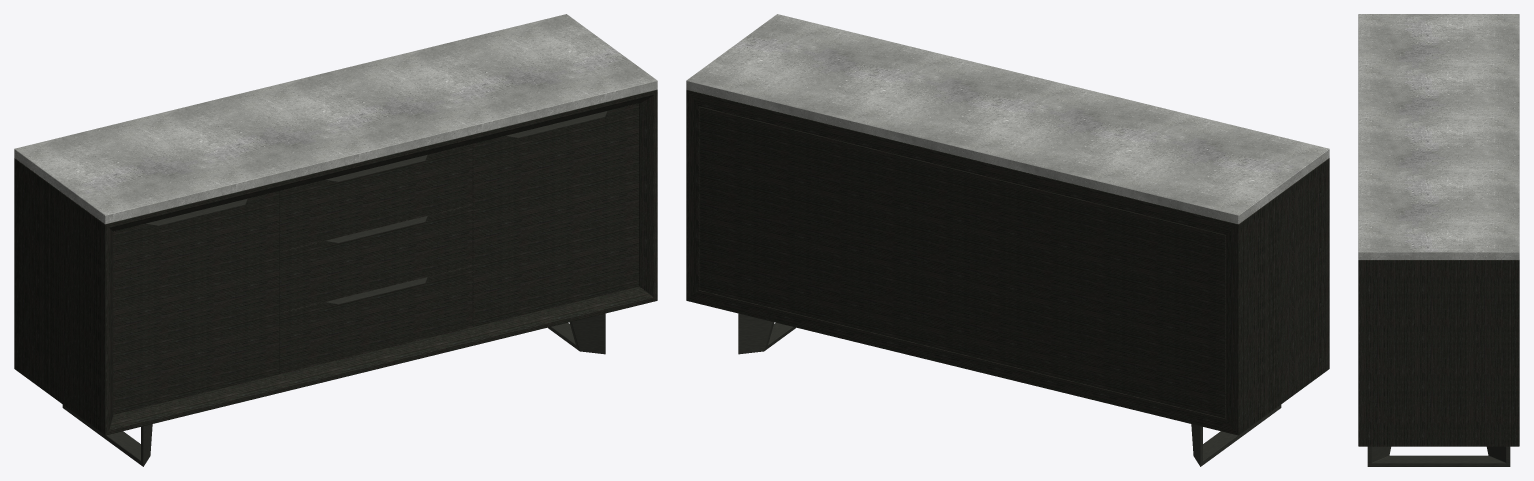
File: clothes_furniture.dae
3 views of the same model, side by side, from view 1: azimuth 30°, elevation 25°; view 2: azimuth 150°, elevation 25°; view 3: azimuth 270°, elevation 25° (orthographic). The views are drawn at different scales.
Parts seen in each view (by area): view 1: DE-GHT-119C_Component_08 (×2), DE-GHT-119C_Component_04, DE-GHT-119C_Component_02, DE-GHT-119C_Component_10 (×3), DE-GHT-119C_Component_05 (×2); view 2: DE-GHT-119C_Component_03, DE-GHT-119C_Component_04, DE-GHT-119C_Component_02, DE-GHT-119C_Component_05 (×2); view 3: DE-GHT-119C_Component_04, DE-GHT-119C_Component_02, DE-GHT-119C_Component_05.
Boxes of the visible parts, x1,y1,x2,y2 form: DE-GHT-119C_Component_08 (×2): (113, 103, 639, 414); DE-GHT-119C_Component_04: (14, 14, 657, 224); DE-GHT-119C_Component_02: (14, 89, 657, 435); DE-GHT-119C_Component_10 (×3): (279, 144, 472, 373); DE-GHT-119C_Component_05 (×2): (62, 313, 605, 466); DE-GHT-119C_Component_03: (699, 106, 1225, 418); DE-GHT-119C_Component_04: (686, 14, 1329, 224); DE-GHT-119C_Component_02: (686, 89, 1329, 435); DE-GHT-119C_Component_05 (×2): (738, 313, 1281, 466); DE-GHT-119C_Component_04: (1358, 14, 1519, 259); DE-GHT-119C_Component_02: (1358, 260, 1519, 446); DE-GHT-119C_Component_05: (1367, 446, 1510, 466).
Bounding box in the file's own units: 63 × 18 × 29.
Materials: 4 (3 with a texture image).
